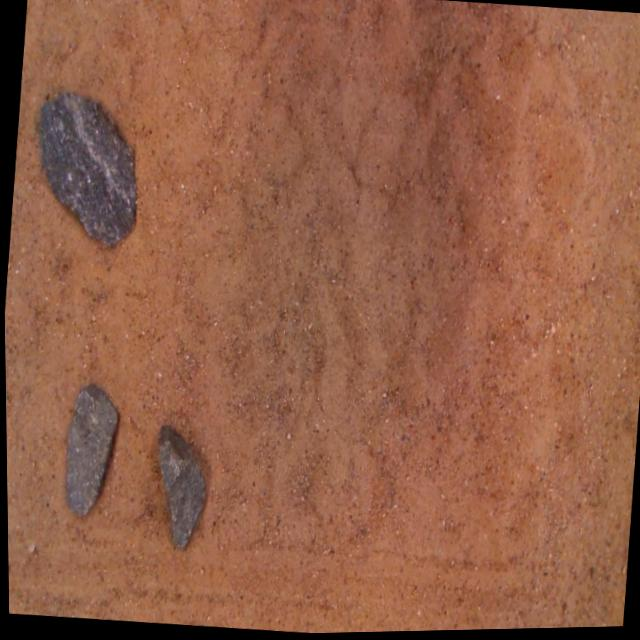rock: (39, 95, 135, 246), (65, 386, 116, 517), (157, 428, 204, 550)
